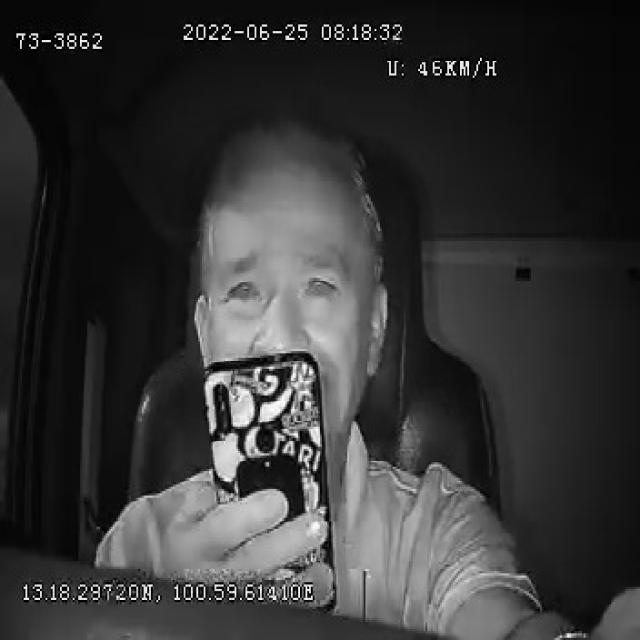phone: (200, 353, 338, 585)
